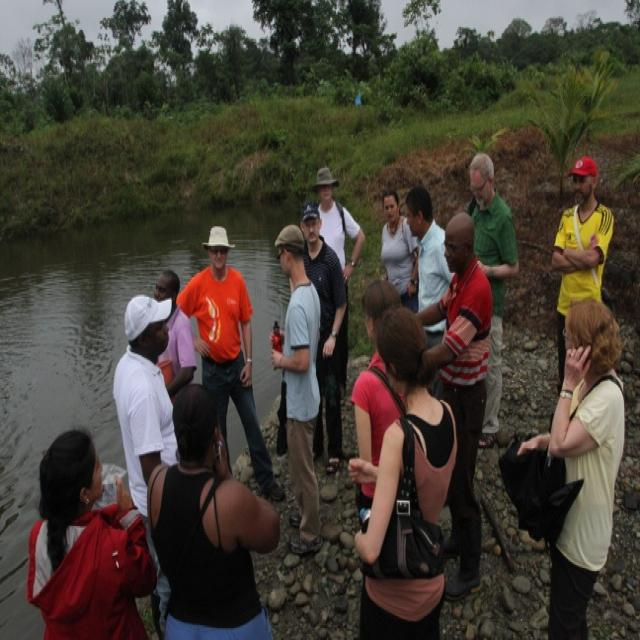body: (515, 294, 627, 640), (346, 303, 459, 638), (146, 382, 283, 640), (175, 225, 285, 508), (21, 422, 162, 638), (414, 210, 492, 599), (111, 294, 180, 640), (267, 225, 324, 557), (463, 150, 521, 451), (549, 156, 618, 405), (297, 200, 350, 507), (348, 278, 404, 534), (306, 166, 365, 394), (404, 183, 456, 394), (152, 268, 198, 399), (378, 189, 420, 313)
